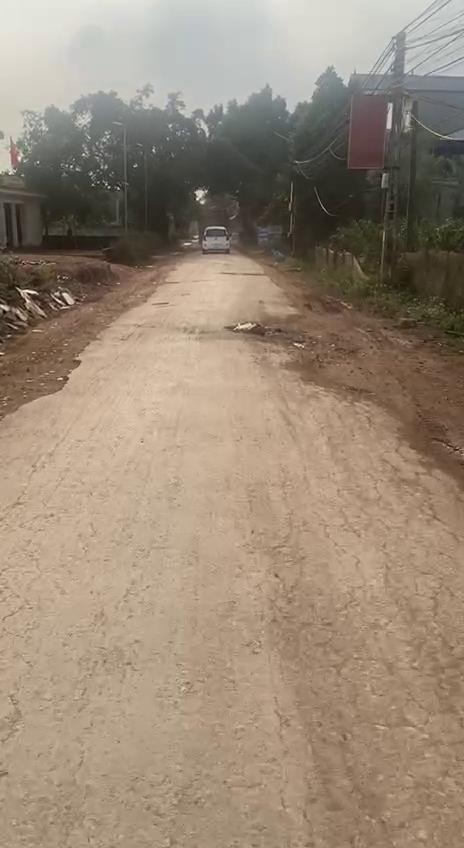pothole: (228, 318, 286, 344)
